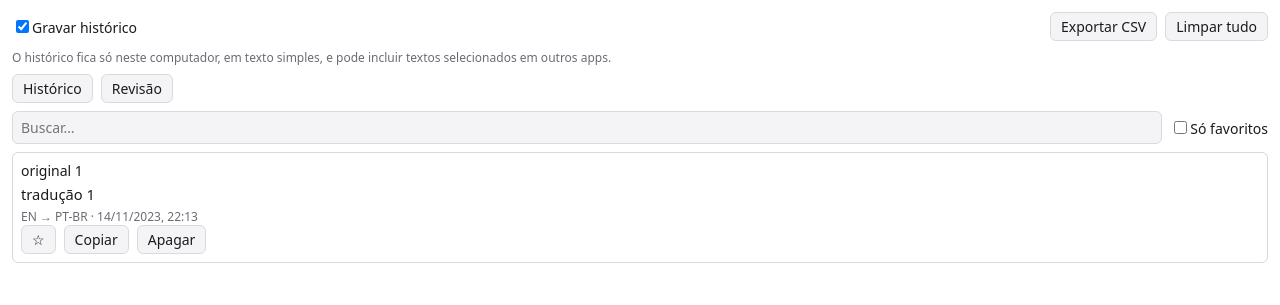
HistoryApp — ações › copies the translation of an entry
The image size is (1280, 305).
Click the button "Copiar". click: (96, 240)
box: [64,225,129,254]
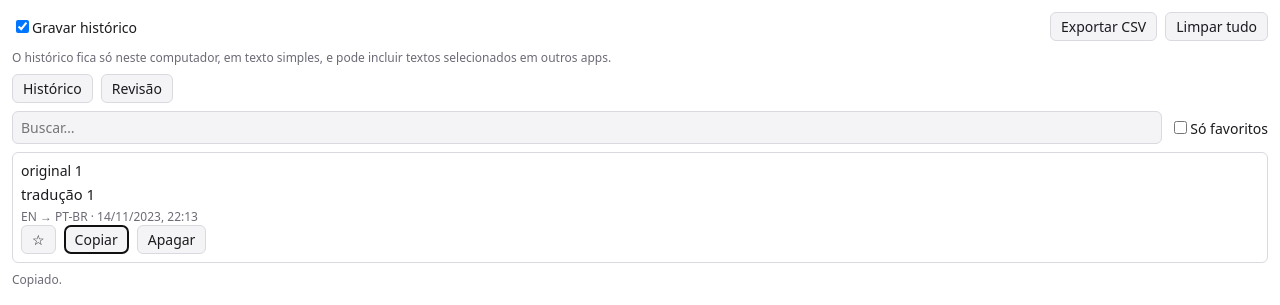
Expected: the text "Copiado." is shown, [12,271,62,288]
